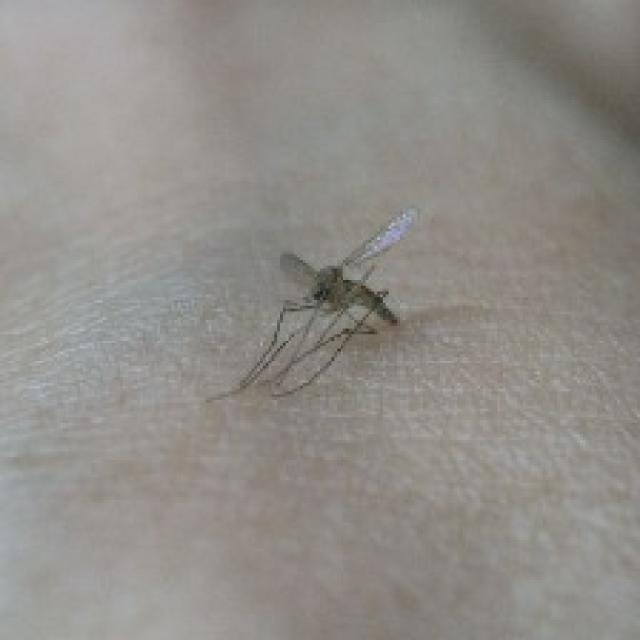culex: (203, 206, 417, 403)
